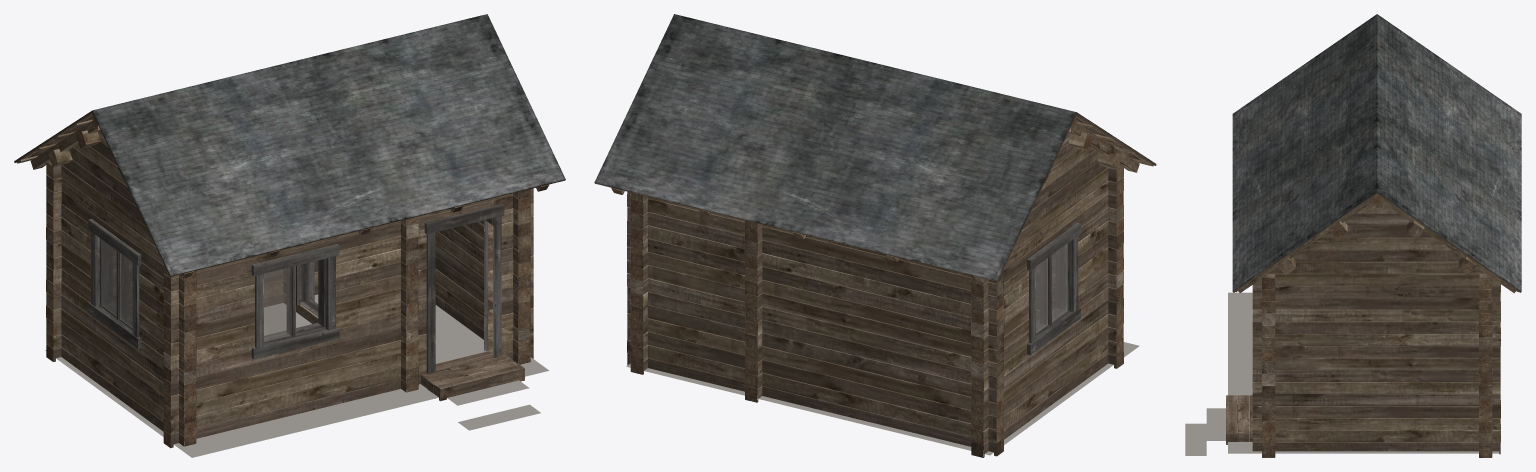
File: log-cabin.zfix-v14.lod1.glb
3 renders of one model, left to right at view 1: azimuth 30°, elevation 25°; view 2: azimuth 150°, elevation 25°; view 3: azimuth 270°, elevation 25°, orthographic. The views are drawn at different scales.
Parts seen in each view (by area): view 1: Base_Roof_0, Base_Wood1a_0, Base_Wood1b_0, Base_Wood2_0, Base_WoodEnds_0, Walkable floors and stairs, Base_Glass_0; view 2: Base_Roof_0, Base_Wood1a_0, Base_Wood1b_0, Base_WoodEnds_0, Base_Wood2_0, Walkable floors and stairs, Base_Glass_0; view 3: Base_Roof_0, Base_Wood1b_0, Base_Wood1a_0, Base_WoodEnds_0, Walkable floors and stairs.
Part boxes in pixels (x1=…): Base_Roof_0: x1=14, y1=14, x2=565, y2=275; Base_Wood1a_0: x1=17, y1=120, x2=549, y2=436; Base_Wood1b_0: x1=14, y1=111, x2=565, y2=448; Base_Wood2_0: x1=88, y1=204, x2=504, y2=373; Base_WoodEnds_0: x1=46, y1=114, x2=548, y2=447; Walkable floors and stairs: x1=45, y1=294, x2=549, y2=457; Base_Glass_0: x1=101, y1=239, x2=290, y2=341; Base_Roof_0: x1=594, y1=14, x2=1156, y2=280; Base_Wood1a_0: x1=611, y1=121, x2=1153, y2=445; Base_Wood1b_0: x1=595, y1=113, x2=1156, y2=457; Base_WoodEnds_0: x1=611, y1=116, x2=1123, y2=457; Base_Wood2_0: x1=1027, y1=222, x2=1080, y2=355; Walkable floors and stairs: x1=626, y1=342, x2=1139, y2=455; Base_Glass_0: x1=1036, y1=243, x2=1067, y2=332; Base_Roof_0: x1=1232, y1=14, x2=1521, y2=291; Base_Wood1b_0: x1=1226, y1=192, x2=1520, y2=457; Base_Wood1a_0: x1=1236, y1=197, x2=1518, y2=446; Base_WoodEnds_0: x1=1262, y1=194, x2=1492, y2=457; Walkable floors and stairs: x1=1185, y1=292, x2=1499, y2=455.
Size of the model in its own units: 6.3 by 4.73 by 5.03.
Materials: 7 (6 with a texture image).
